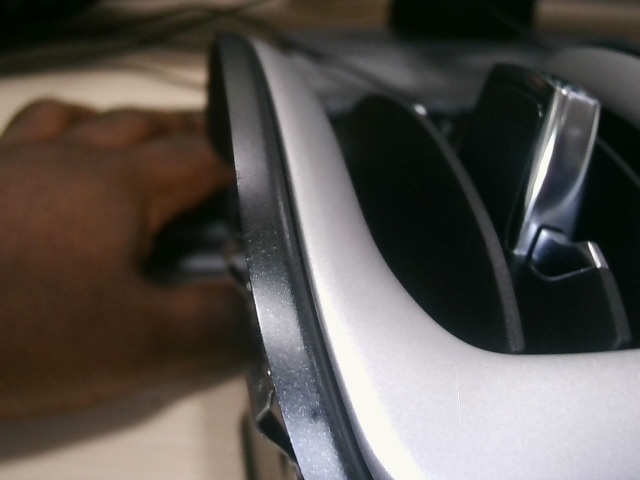NG: (241, 221, 286, 284), (444, 363, 473, 423)
